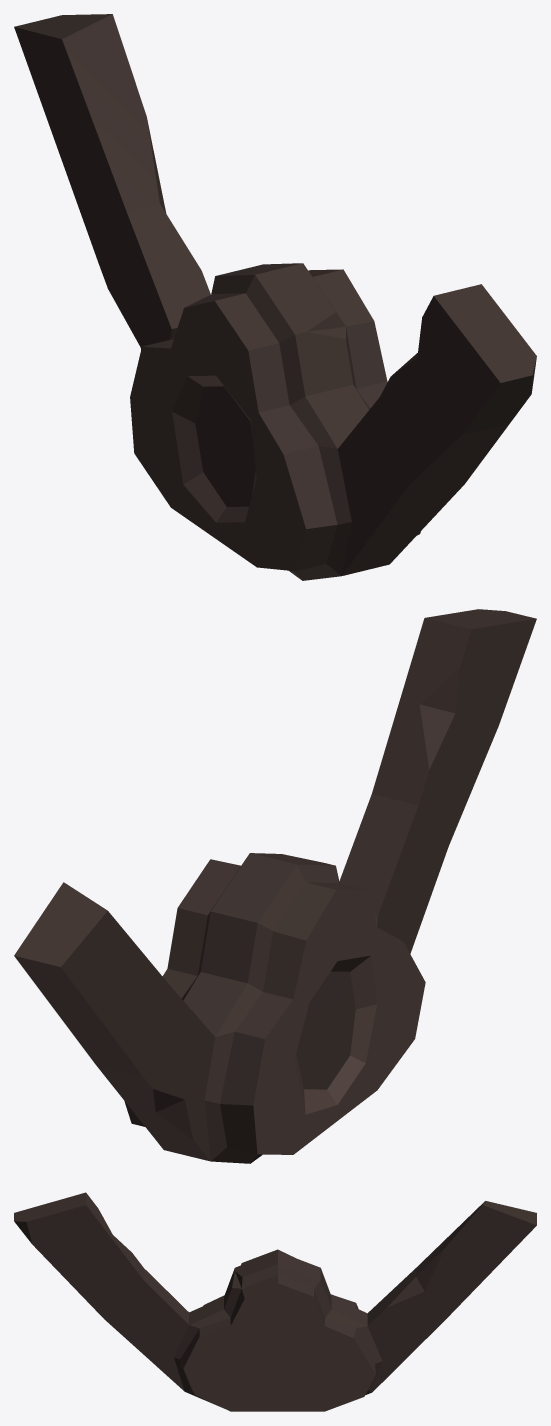
The model's file is SM_Bld_Roof_Trim_Cap_04.fbx.
3 renders of one model, top to bottom at view 1: azimuth 30°, elevation 25°; view 2: azimuth 150°, elevation 25°; view 3: azimuth 270°, elevation 25°, orthographic. The views are drawn at different scales.
Parts seen in each view (by area): view 1: SM_Bld_Roof_Trim_Cap_04; view 2: SM_Bld_Roof_Trim_Cap_04; view 3: SM_Bld_Roof_Trim_Cap_04.
Boxes of the visible parts, left/top/right/bottom form: SM_Bld_Roof_Trim_Cap_04: left=14, top=14, right=536, bottom=580; SM_Bld_Roof_Trim_Cap_04: left=14, top=609, right=536, bottom=1163; SM_Bld_Roof_Trim_Cap_04: left=14, top=1192, right=536, bottom=1411.
Size of the model in its own units: 22.51 by 63.66 by 147.
